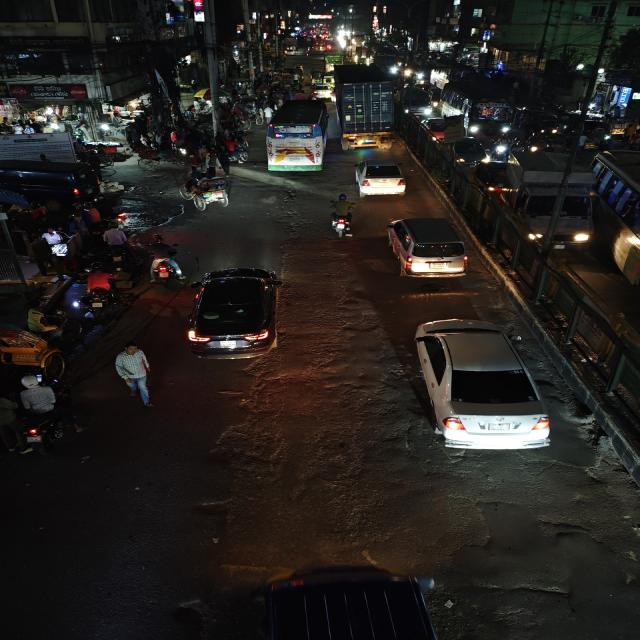bus: (593, 148, 640, 304), (262, 98, 332, 176), (442, 79, 514, 135)
car: (403, 313, 551, 457), (183, 264, 288, 362), (382, 213, 473, 280), (351, 155, 408, 199), (444, 137, 491, 169), (400, 84, 438, 117), (414, 116, 462, 142)
cng: (310, 71, 334, 94)
motorcycle: (10, 376, 70, 452), (78, 264, 126, 314), (142, 234, 183, 286), (326, 194, 360, 240)
pedestrian: (110, 340, 156, 408), (101, 224, 131, 256), (216, 150, 234, 176), (203, 151, 222, 175)
rickshaw: (0, 306, 86, 378), (180, 171, 235, 210)
truck: (510, 144, 593, 252), (336, 66, 397, 152)
